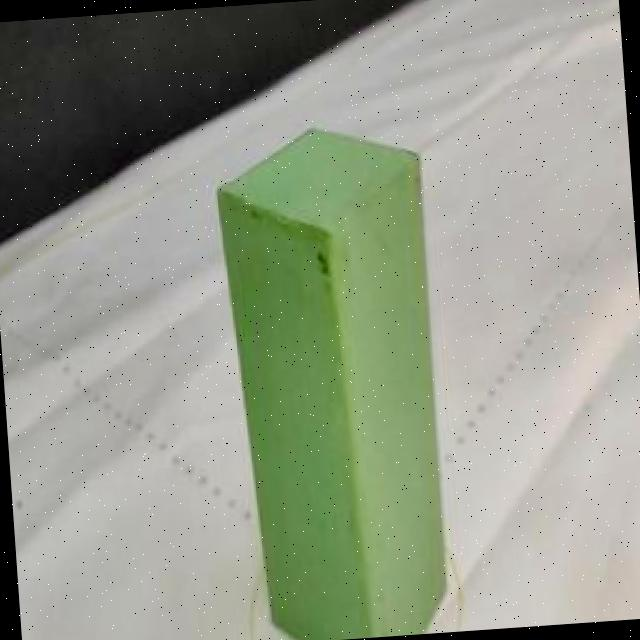greenbox: (208, 115, 456, 640)
